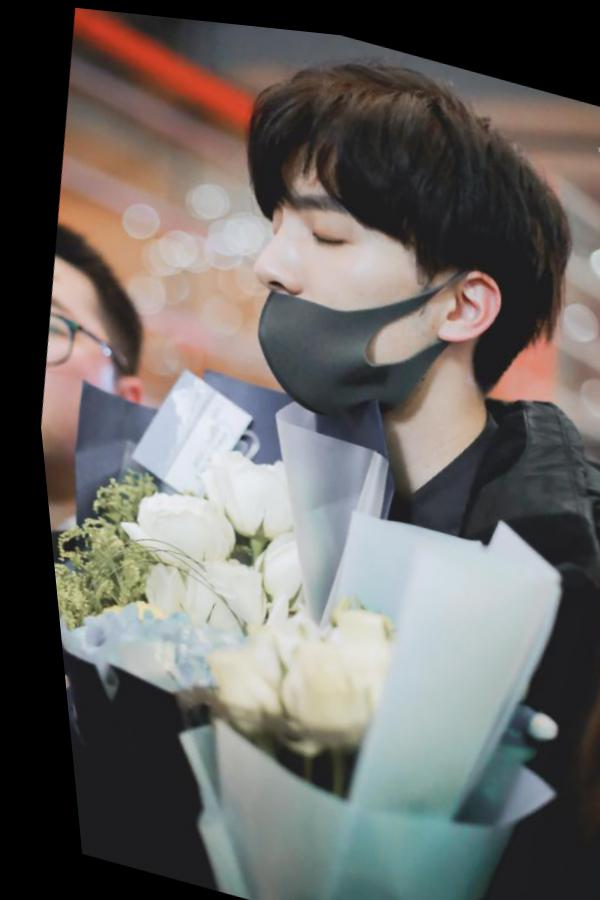WRONG: (220, 137, 469, 439)
